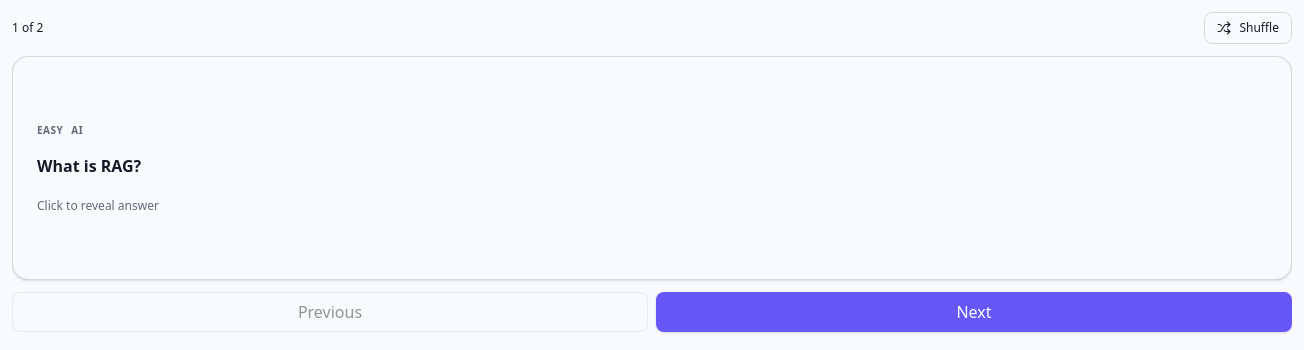
Test: FlashcardViewer › reveals answers and navigates cards accessibly
The image size is (1304, 350).
Expected: the text "What is RAG?" is shown, [37,154,141,176]
Click the button "easy AI What is RAG? Click to reveal answer": {"x": 652, "y": 267} [12,56,1292,280]
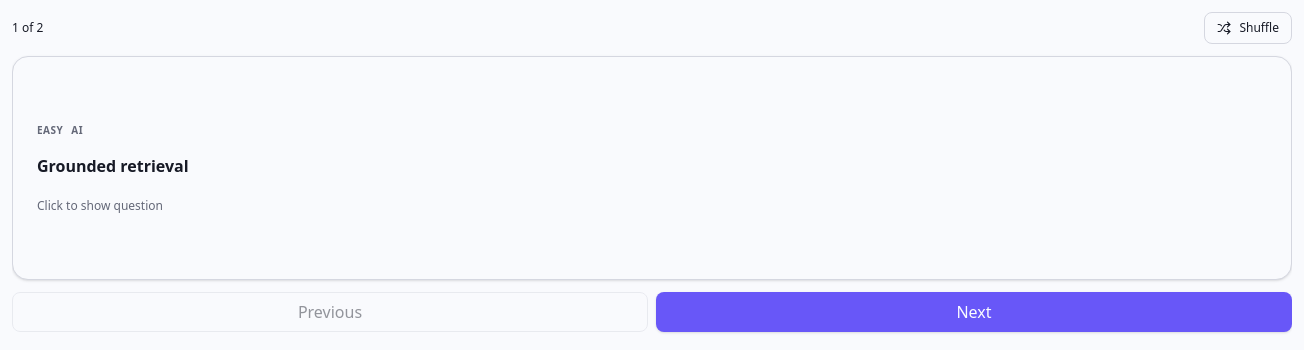
Result: the text "Grounded retrieval" is shown at [37,154,189,176]
Click the button "Next": {"x": 974, "y": 312} [656,292,1292,332]
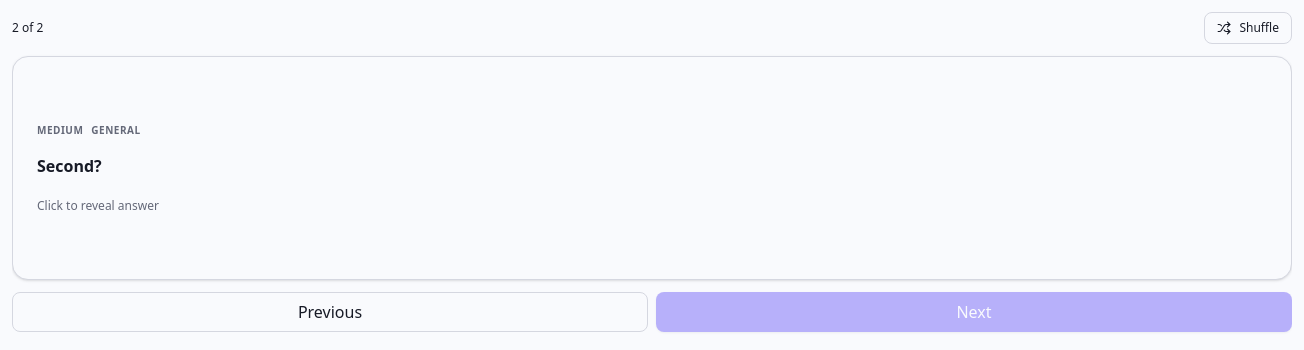
Expected: the button "Shuffle" is shown, [1204,12,1292,44]
Result: the text "Second?" is shown at [37,154,102,176]
